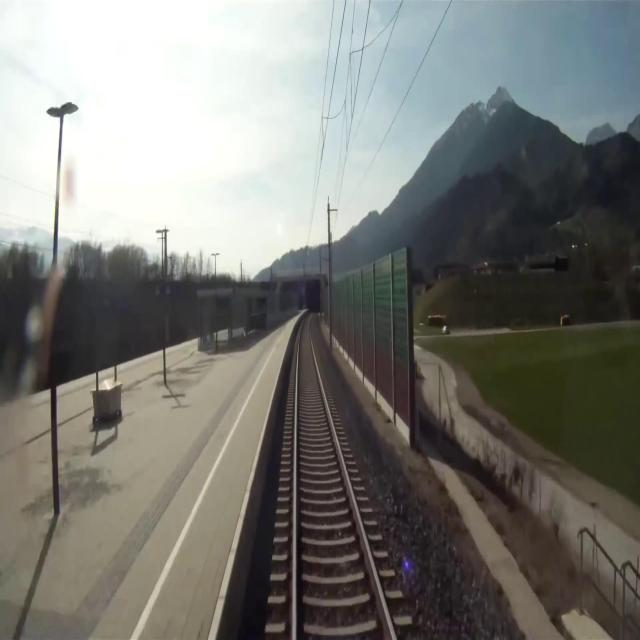rail-track: (297, 314, 392, 639)
